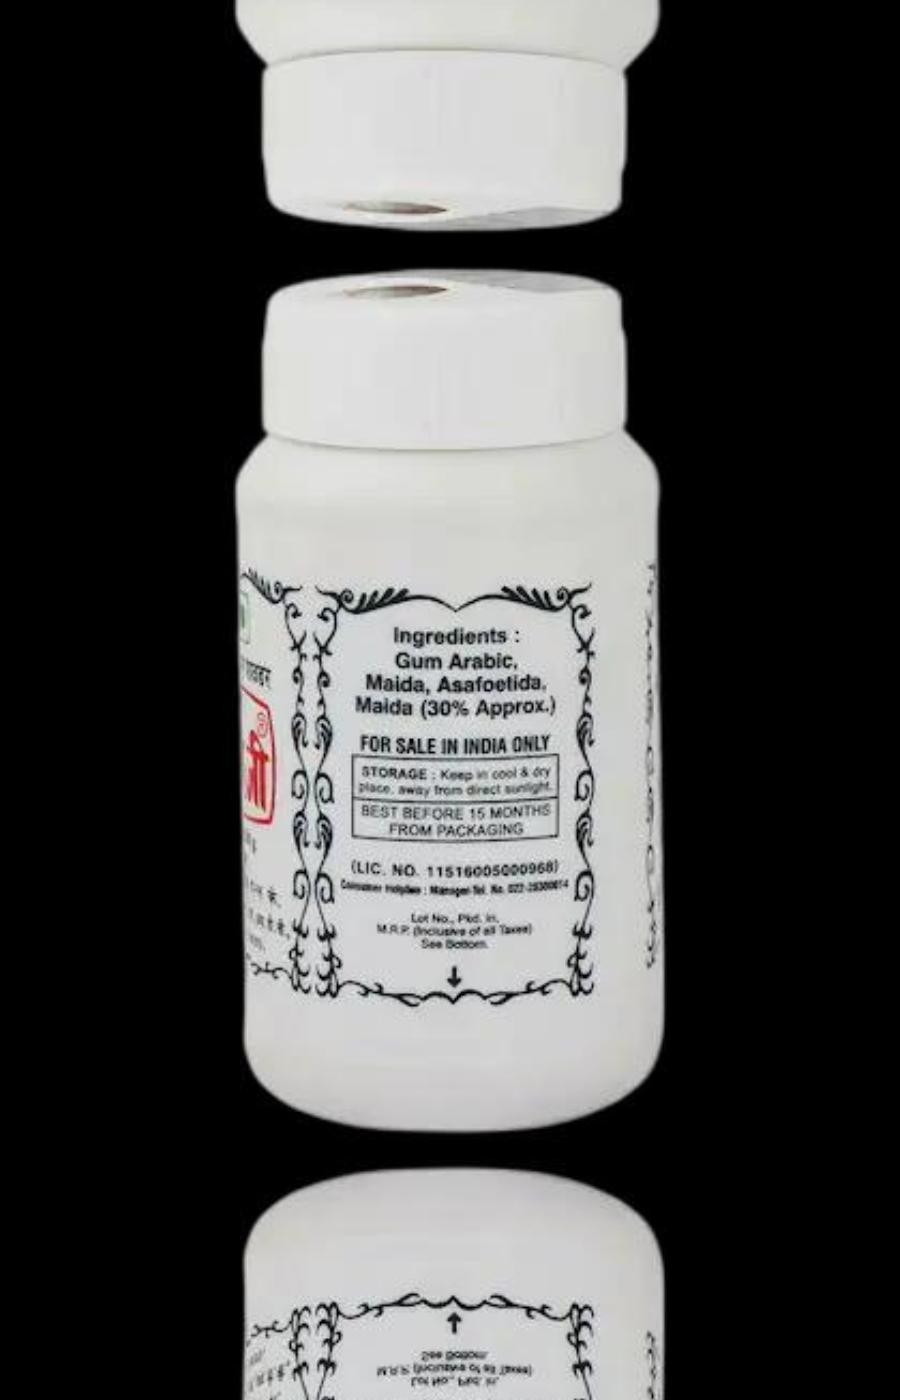LG Compounded Hing 100 g: (229, 265, 663, 1125), (229, 0, 663, 235), (229, 1175, 663, 1400)
